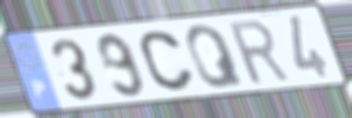3: (49, 37, 99, 103)
4: (288, 13, 330, 82)
9: (95, 31, 146, 99)
C: (137, 29, 198, 94)
Q: (183, 22, 248, 91)
R: (225, 17, 294, 88)
